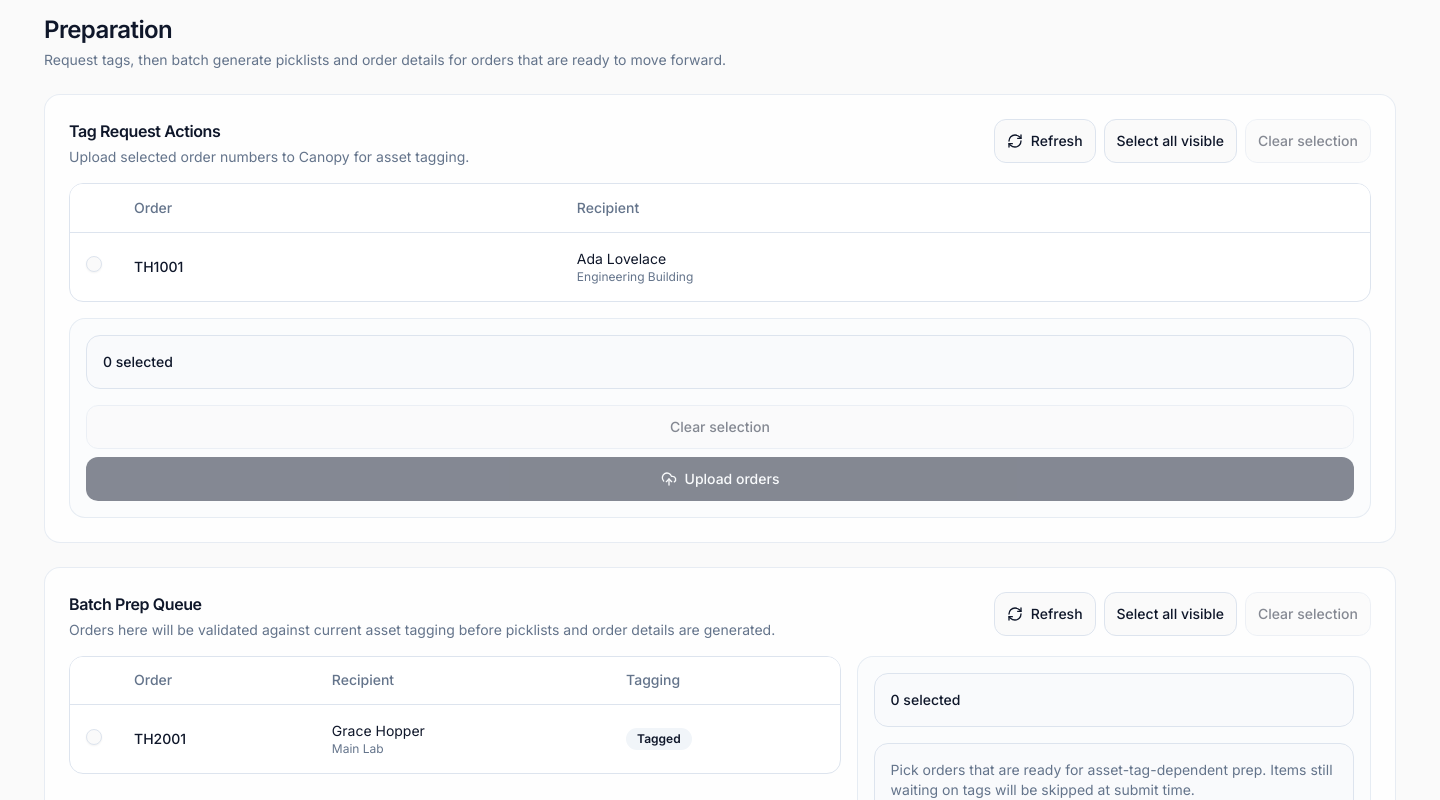
Scenario: Preparation › supports selecting prep orders and batch generating picklists
Check: the heading "Preparation" is shown, box [44,15,172,44]
Check: the text "TH2001" is shown, box [134,729,186,749]
Click the checkbox named "Select TH2001" at (94, 736), box [86,728,102,744]
(page scrolled)
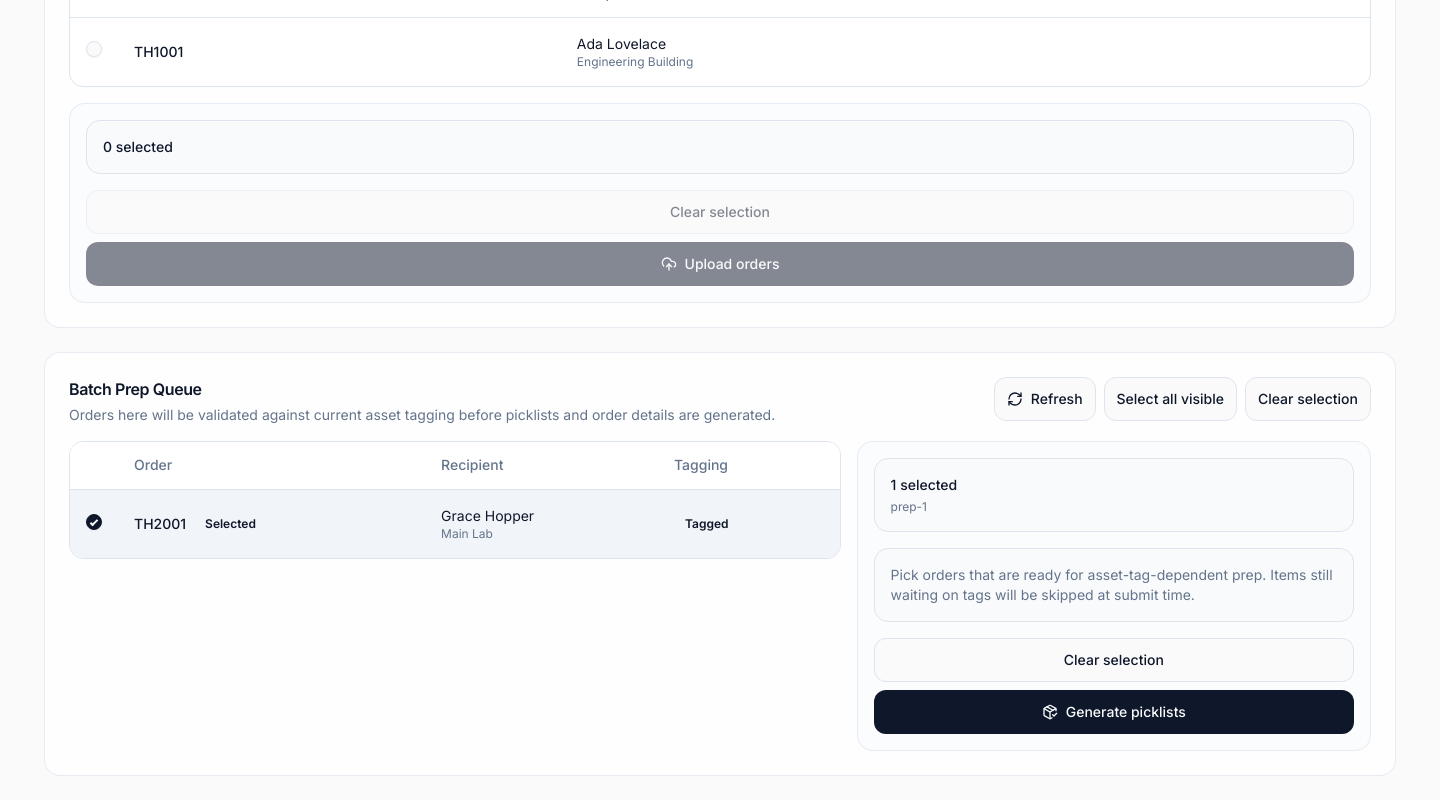
Click the button "Generate picklists" at (1114, 712), box [874,690,1354,734]
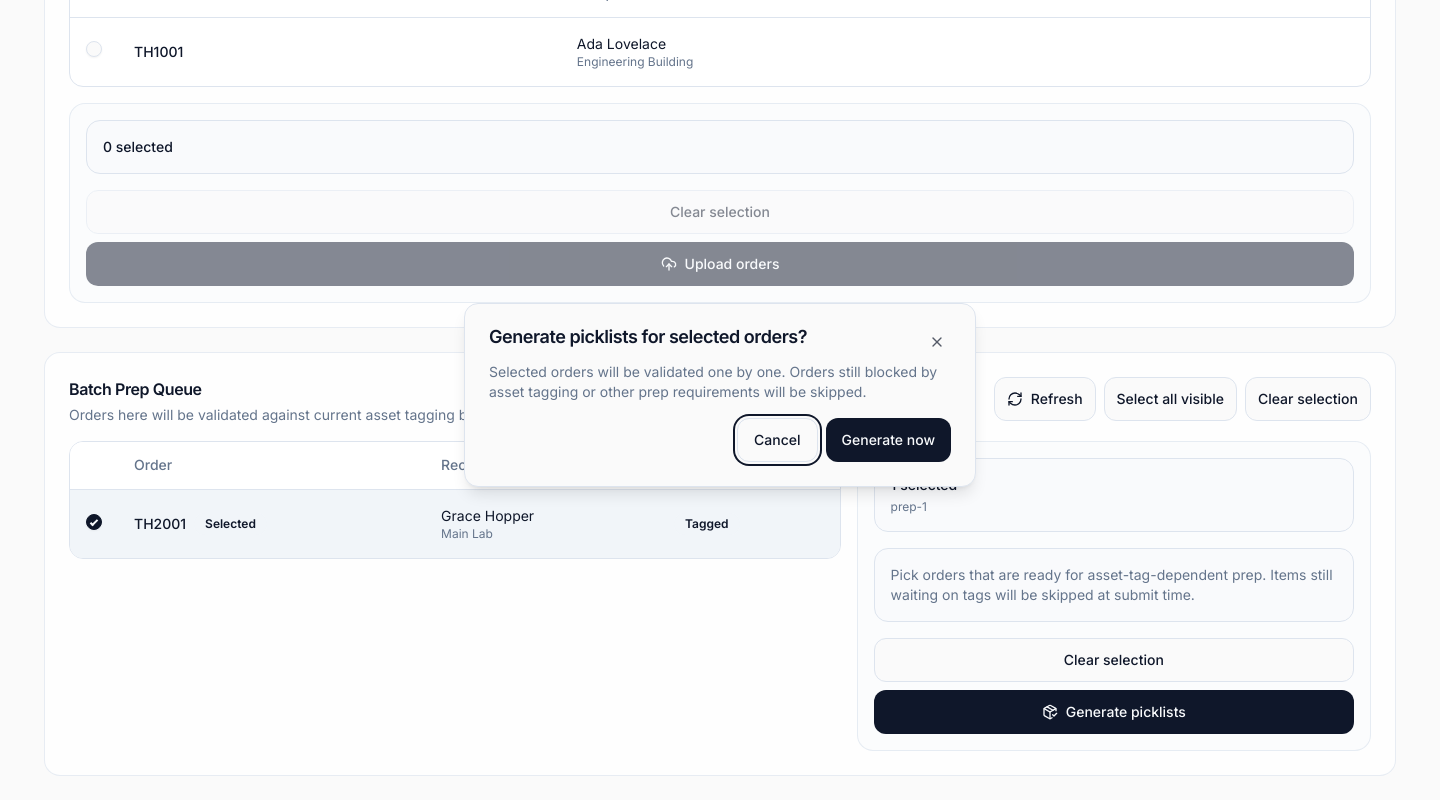
Check: the heading "Generate picklists for selected orders?" is shown, box [489,326,807,347]
Click the button "Generate now" at (888, 440), box [826,418,951,462]
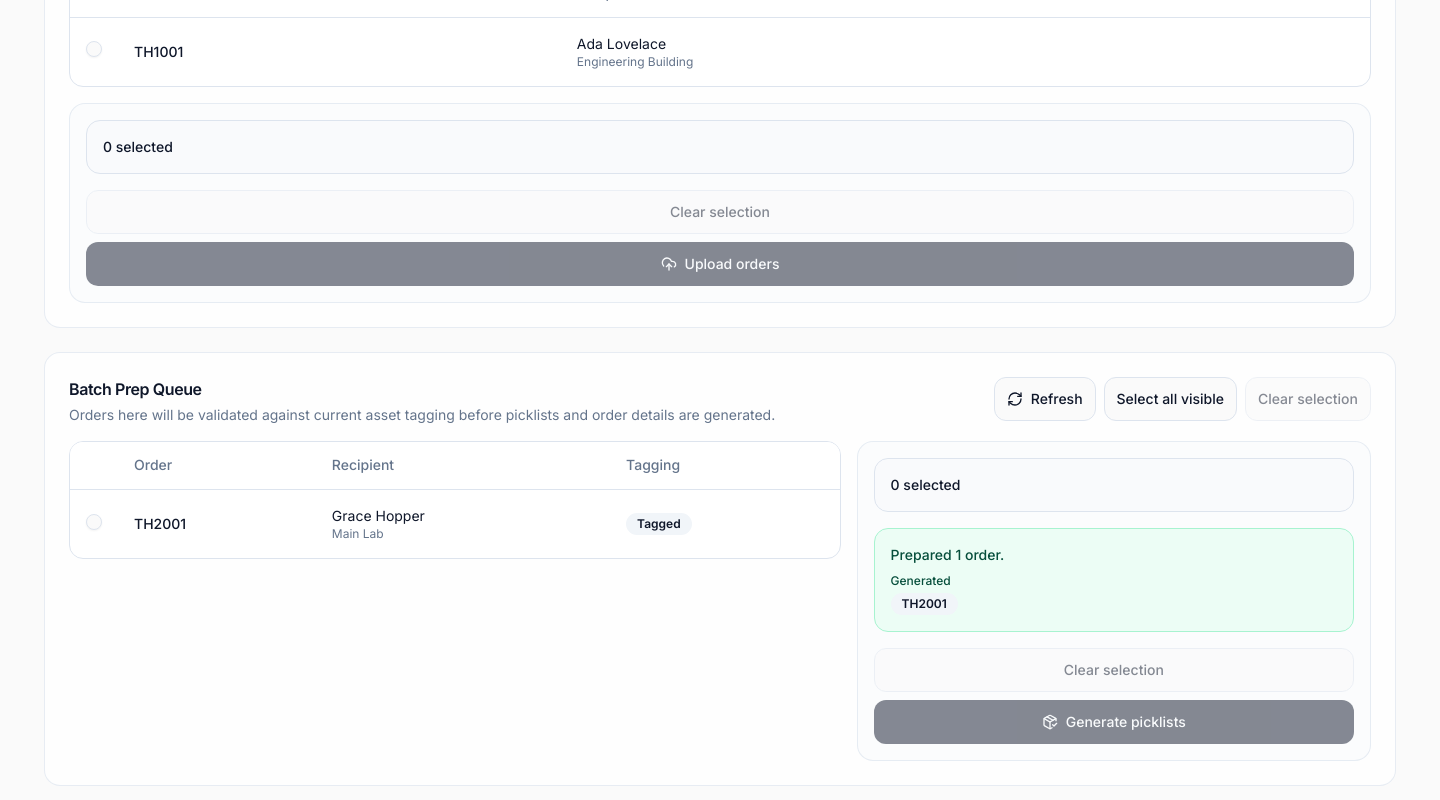
Check: the text "Prepared 1 order." is shown, box [891,546,1004,562]
